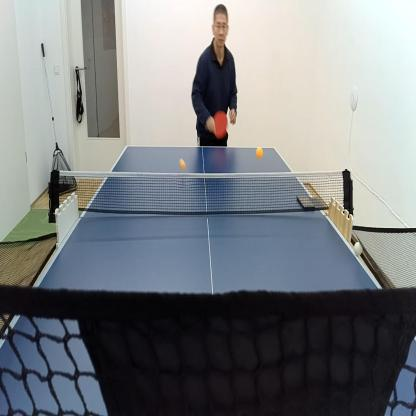Ball: (353, 241, 362, 256), (256, 147, 264, 158), (179, 157, 185, 169)
